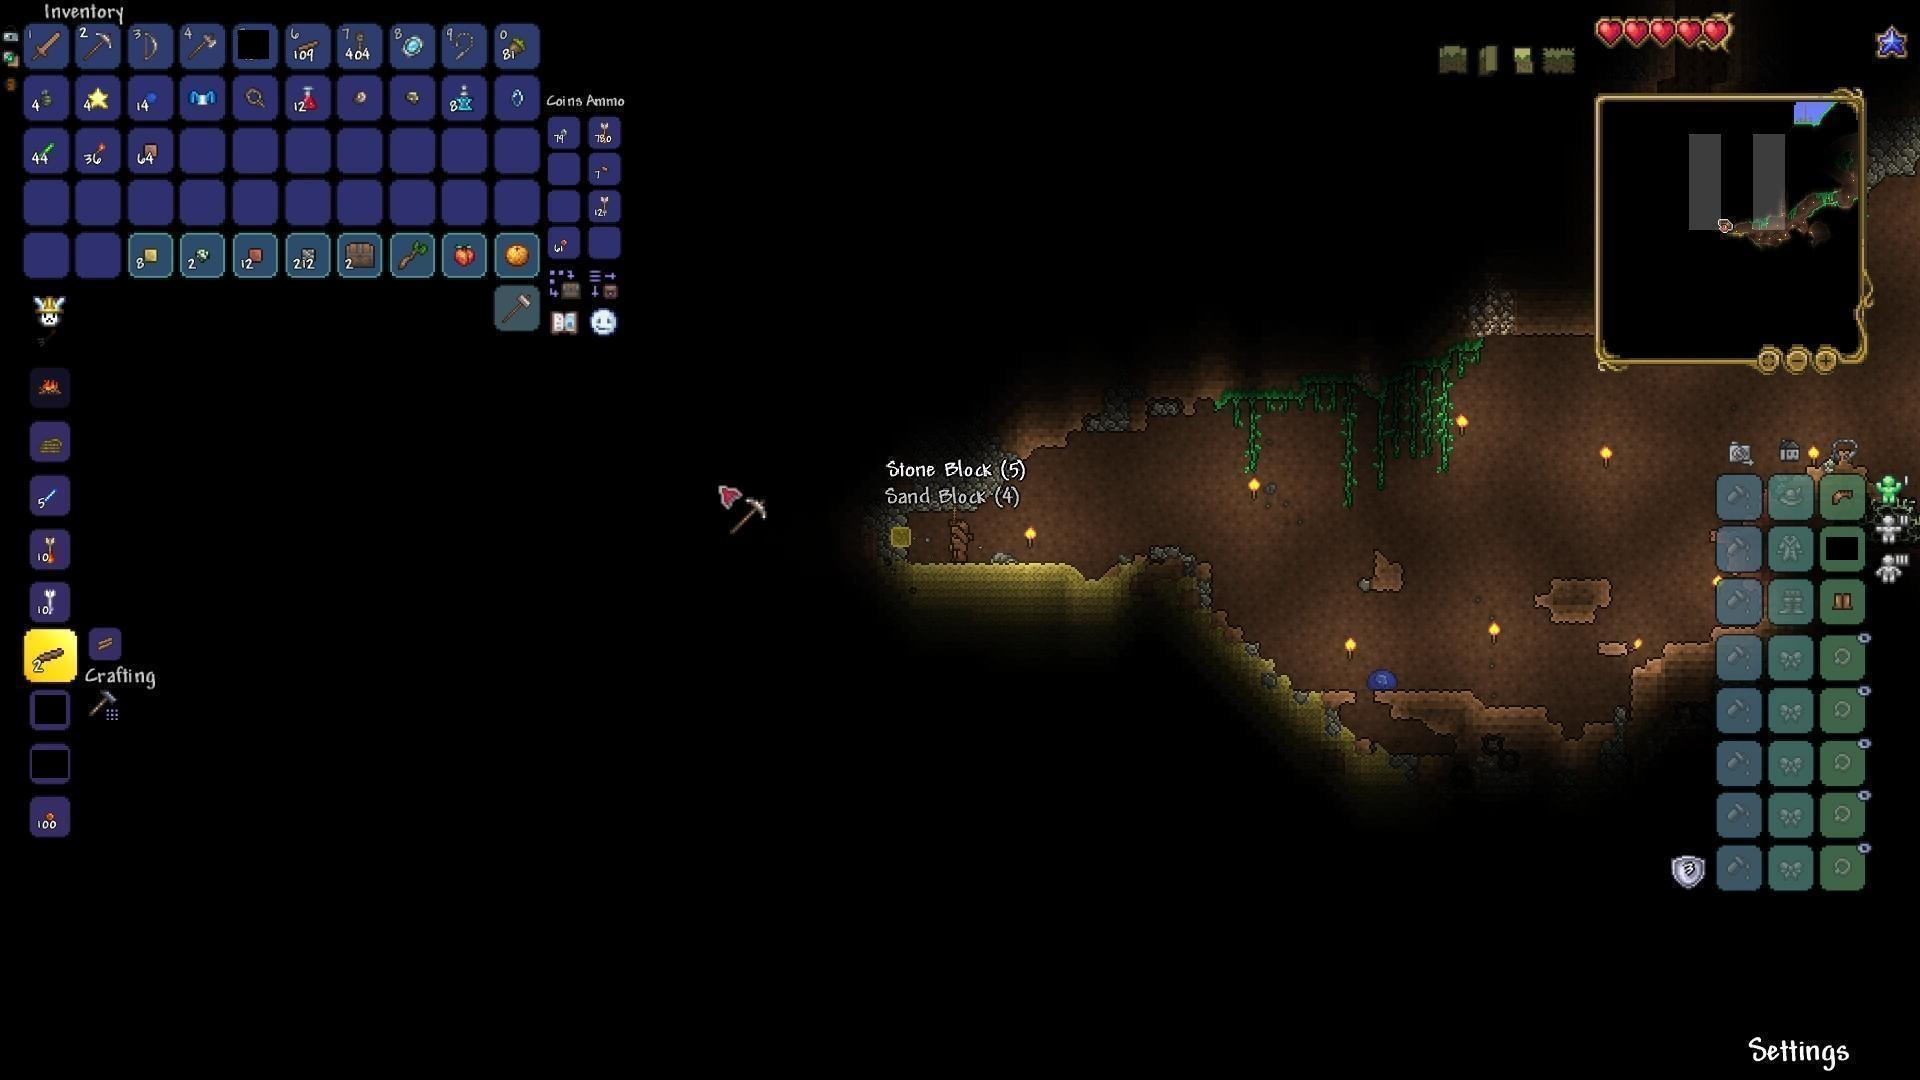helmet: (1825, 480, 1859, 512)
legs: (1832, 587, 1857, 617)
slime: (1367, 663, 1396, 692)
wood: (91, 632, 120, 659)
